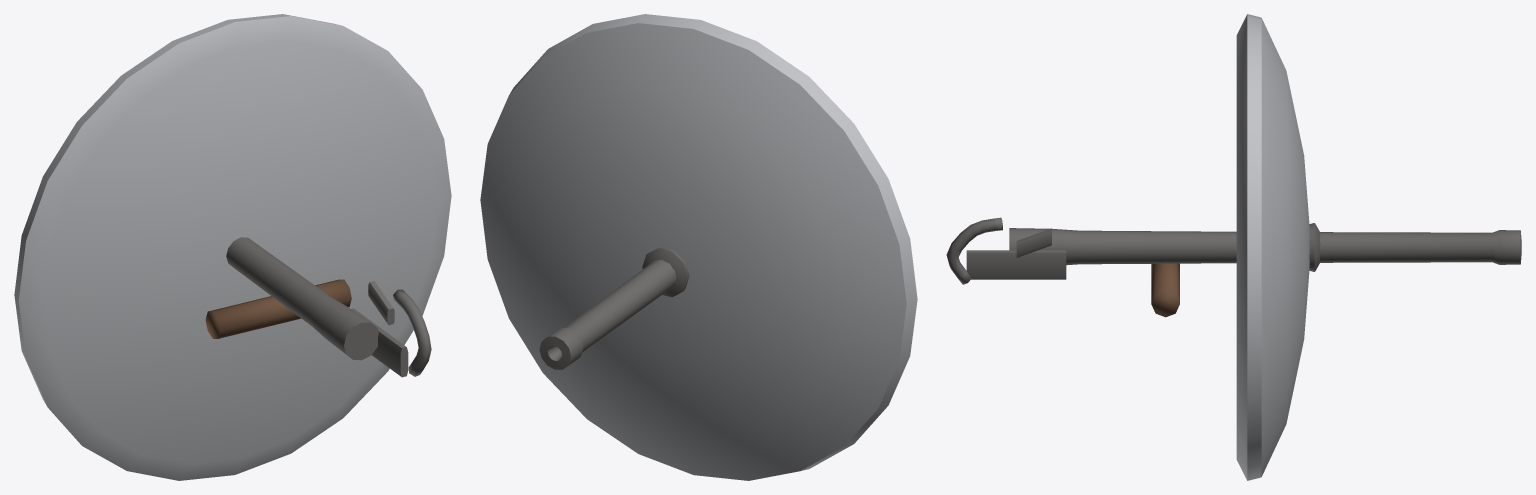
Rendered from buckler-gun.glb.
3 views of the same model, side by side, from view 1: azimuth 30°, elevation 25°; view 2: azimuth 150°, elevation 25°; view 3: azimuth 270°, elevation 25° (orthographic). The views are drawn at different scales.
Visible parts, largest first — view 1: buckler-gun; view 2: buckler-gun; view 3: buckler-gun.
Boxes of the visible parts, x1,y1,x2,y2 form: buckler-gun: (14,14,451,480); buckler-gun: (480,14,917,480); buckler-gun: (946,14,1521,480).
Size of the model in its own units: 0.66 by 0.66 by 0.8096.
